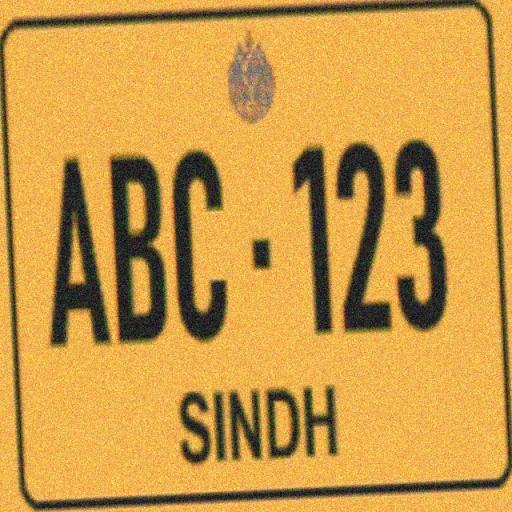1: (286, 136, 334, 332)
2: (334, 144, 396, 332)
3: (394, 139, 452, 338)
A: (40, 159, 104, 358)
B: (105, 144, 170, 353)
C: (173, 155, 233, 351)
